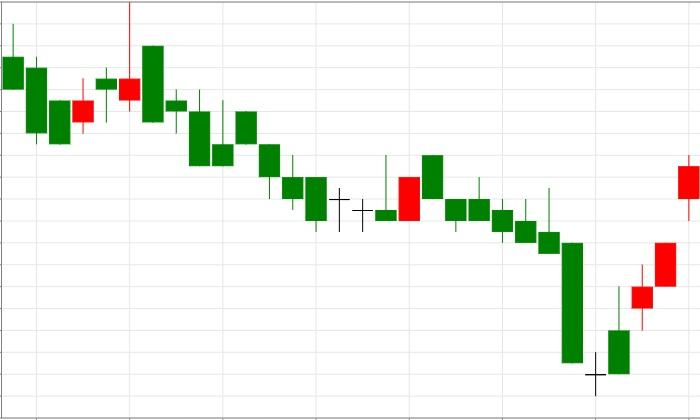three_white_soldiers_rise: (422, 155, 699, 396)
